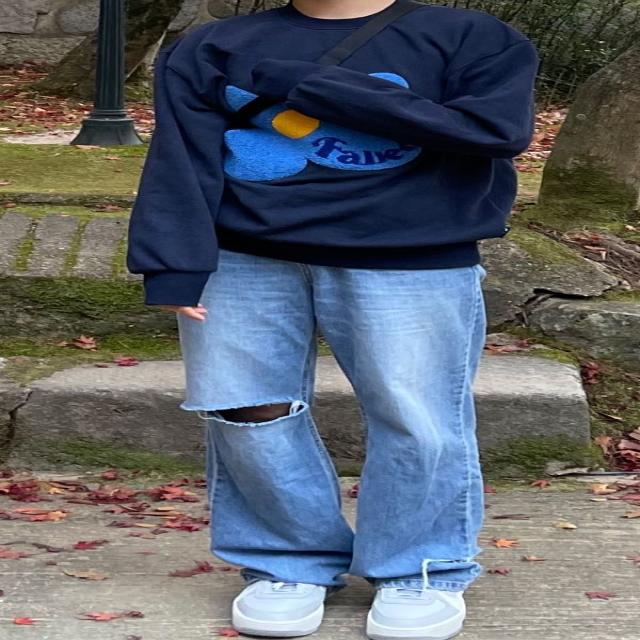denimpants: (174, 247, 490, 588)
mtm: (130, 2, 545, 310)
